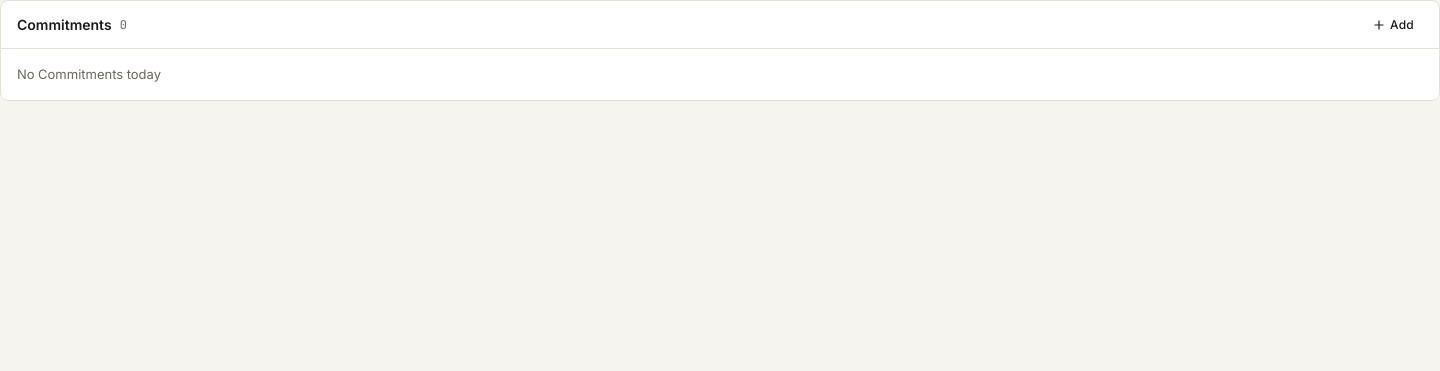
Test: CommitmentsPanel › shows a form-level server message when the error has no field details
Step 1. Click the button "Add" → (1393,24), box 1363,10 -> 1423,38
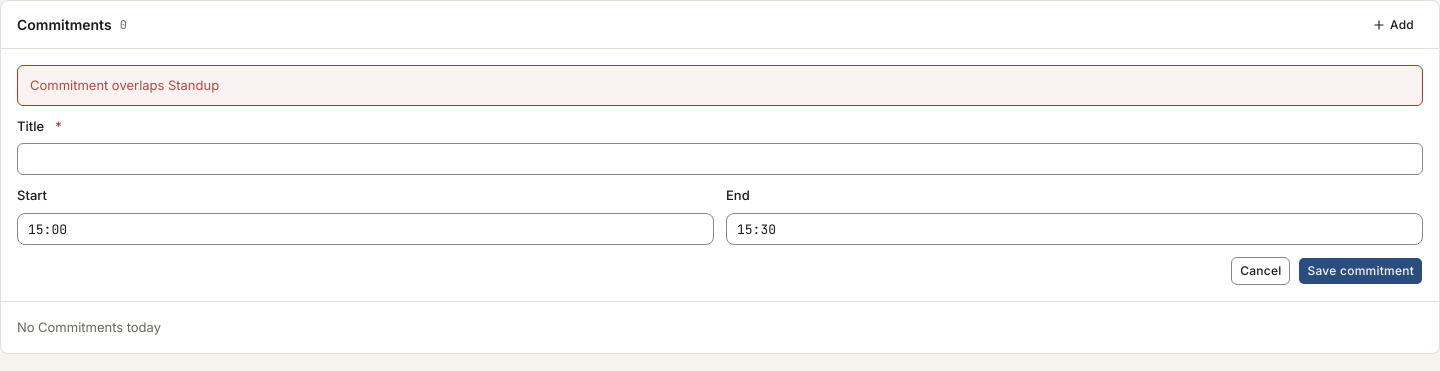
Check: the message reads "Commitment overlaps Standup", box 30,77 -> 219,93
Check: the field labelled "Title *" is shown, box 17,143 -> 1423,175
